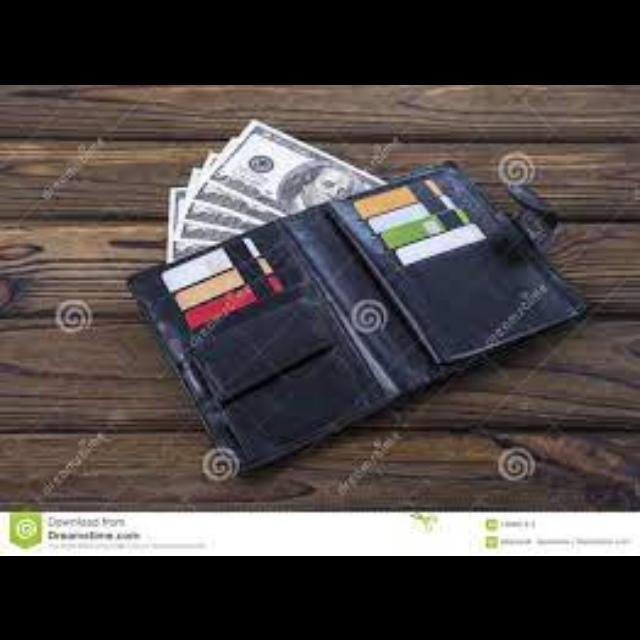wallet: (124, 157, 612, 466)
